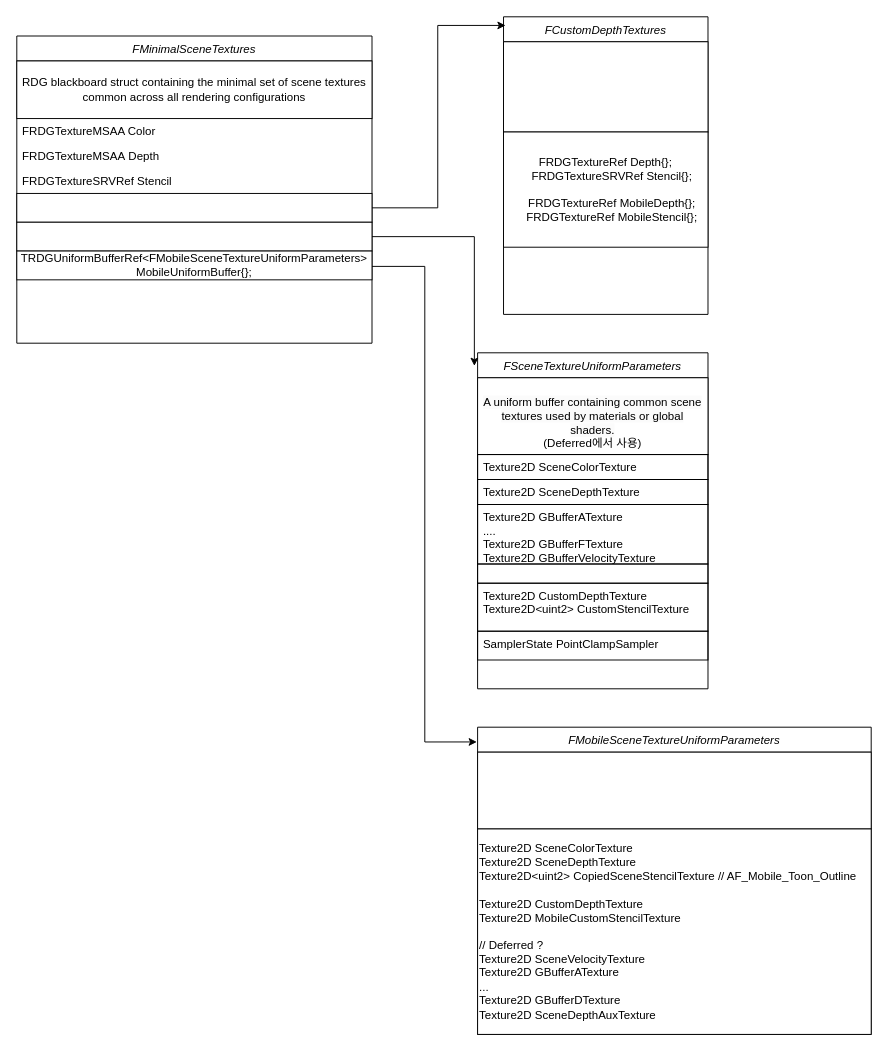
This 888x1051 diagram has some shape labels left out. Here are the shapes that lost their labels. From the top down, the centre of each, then its label:
(605,86): 커스텀 뎁스 텍스쳐 (5.0 에서는 Mobile용이 따로있었으나 5.1에서는 PC와 같은방식으로 SRVRef 사용하도록 수정됨)
(194,207): FCustomDepthTextures CustomDepth{};
(194,236): TRDGUniformBufferRef<FSceneTextureUniformParameters> UniformBuffer{};
(592,573): Texture2D ScreenSpaceAOTexture
(674,790): 모바일용 SceneTextureUniformParameters
